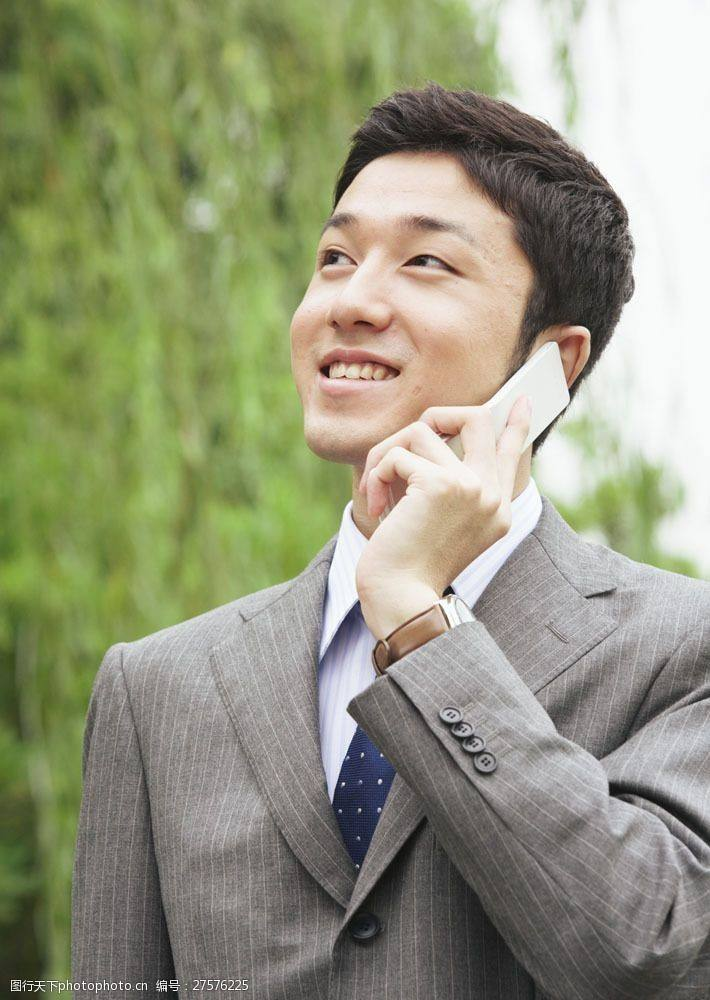calling: (345, 335, 575, 599)
